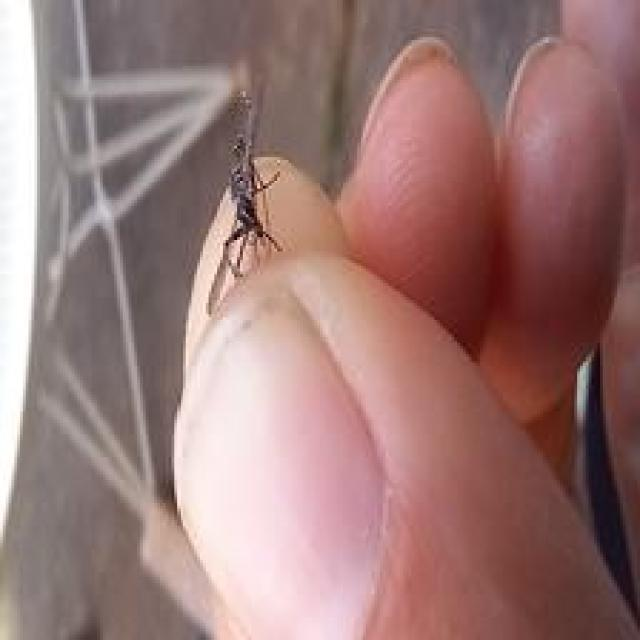Aedes albopictus: (204, 87, 284, 316)
